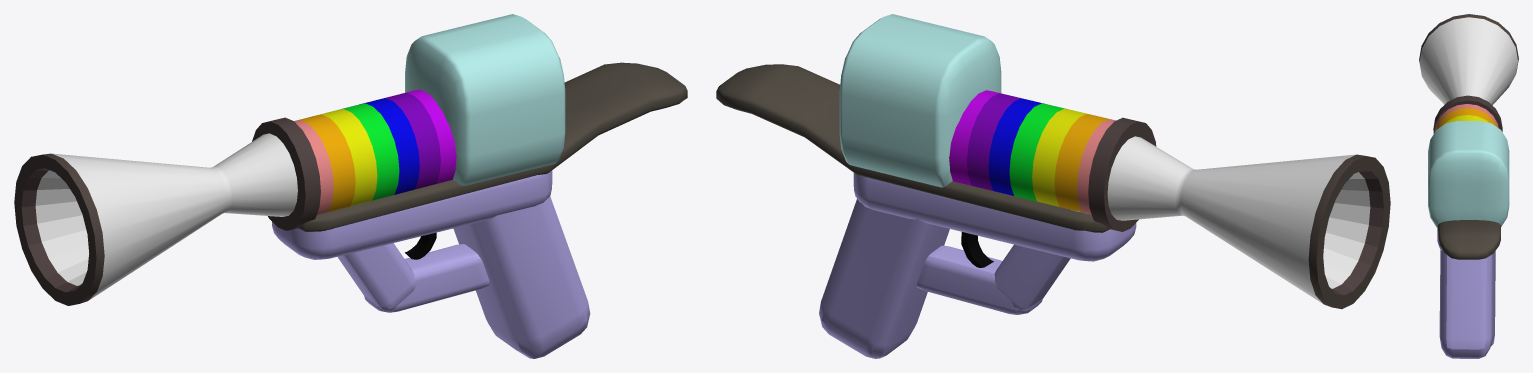
Rendered from Rainbowgun1.fbx.
The picture shows the model from 3 angles, left to right: view 1: azimuth 30°, elevation 25°; view 2: azimuth 150°, elevation 25°; view 3: azimuth 270°, elevation 25°; orthographic projection. The views are drawn at different scales.
Parts seen in each view (by area): view 1: pCube4; view 2: pCube4; view 3: pCube4.
Boxes of the visible parts, <box> form: pCube4: <box>14,14,687,358</box>; pCube4: <box>716,14,1390,358</box>; pCube4: <box>1419,14,1518,358</box>.
Size of the model in its own units: 10.04 by 4.97 by 2.17.
